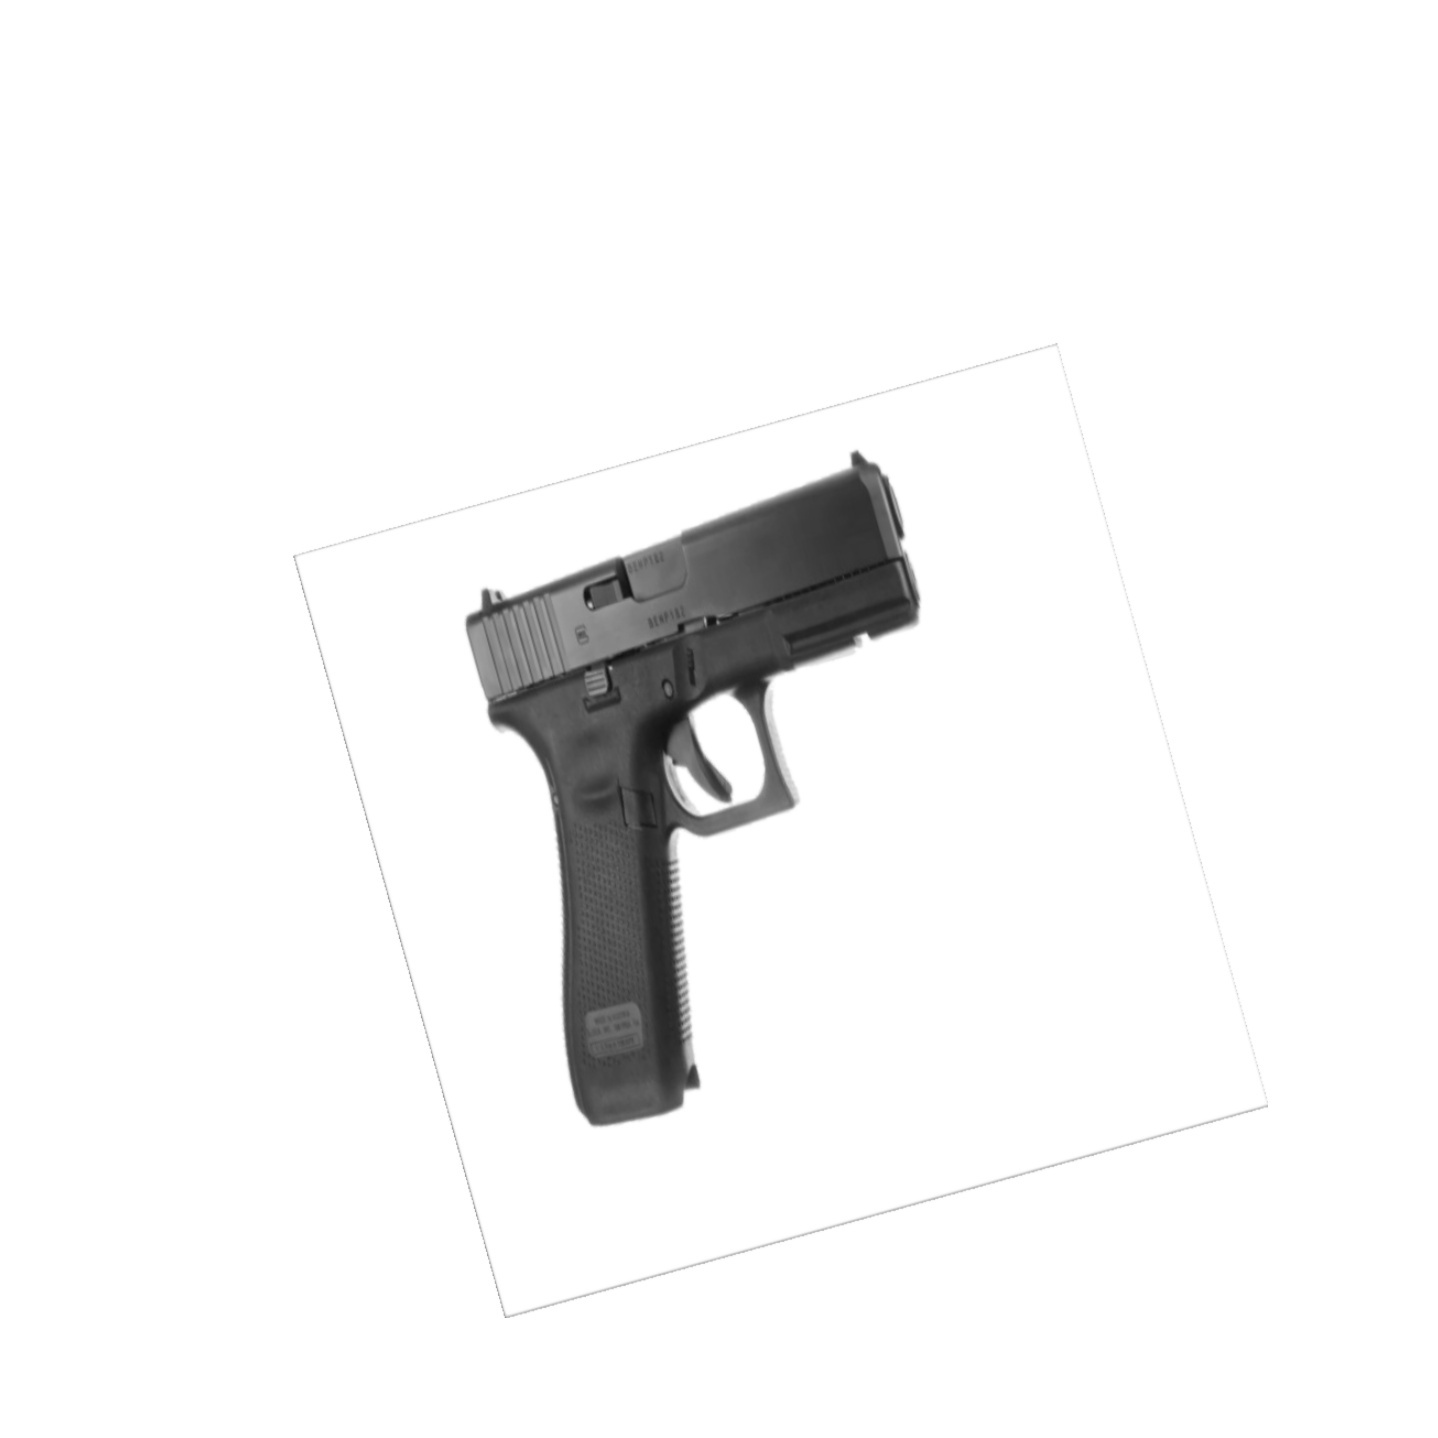gun: (437, 446, 930, 1136)
